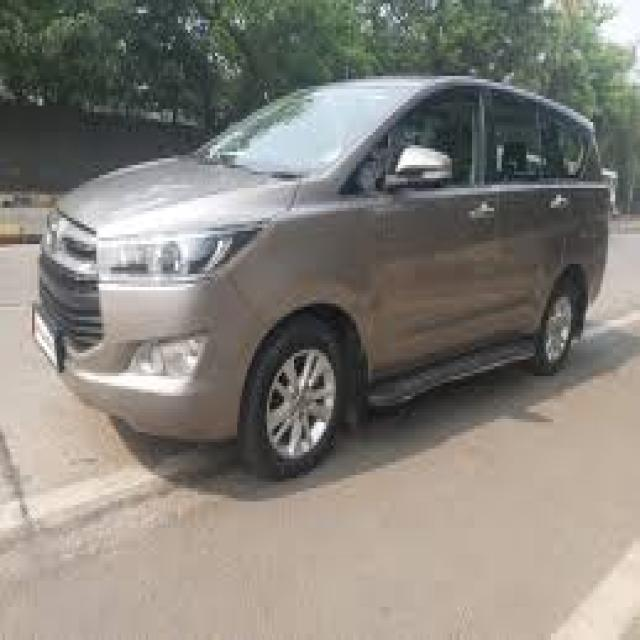light_vehicle: (32, 77, 610, 482)
